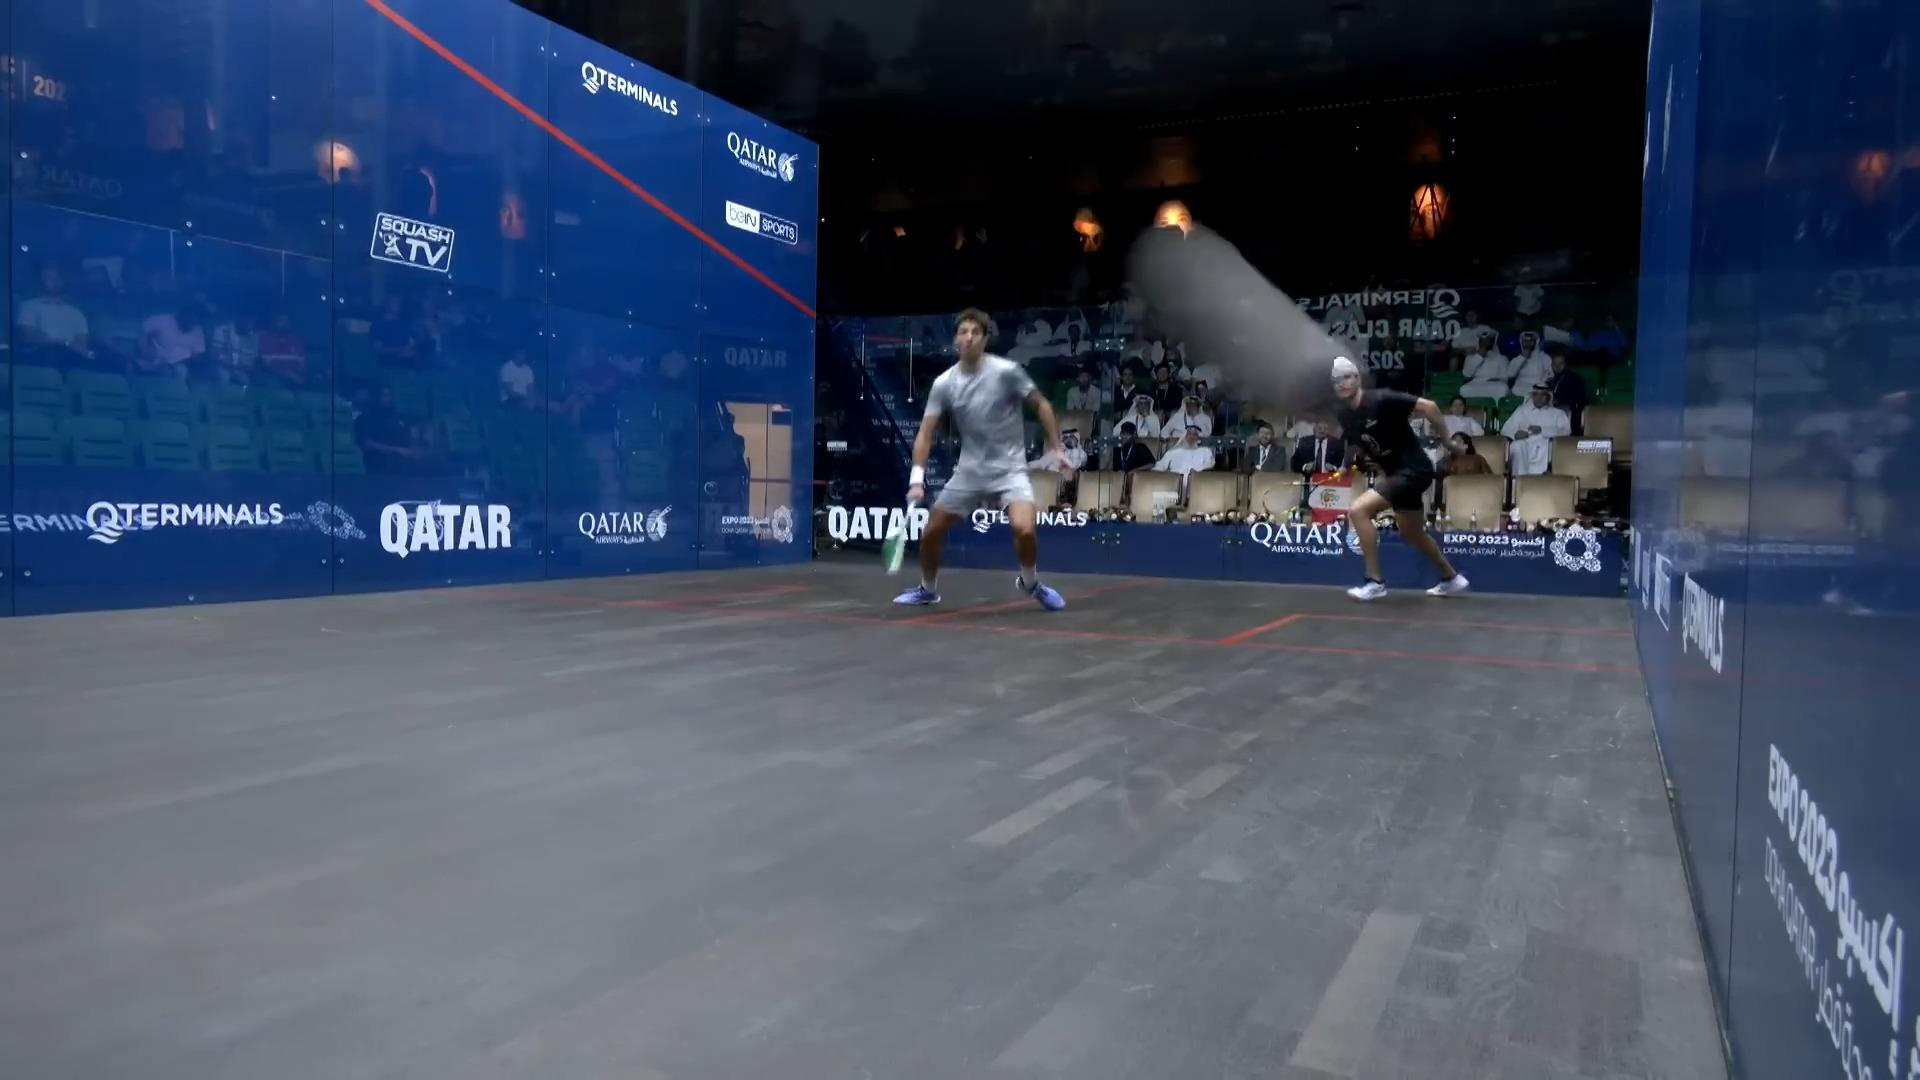Racket: (872, 492, 919, 576), (1259, 473, 1341, 521)
